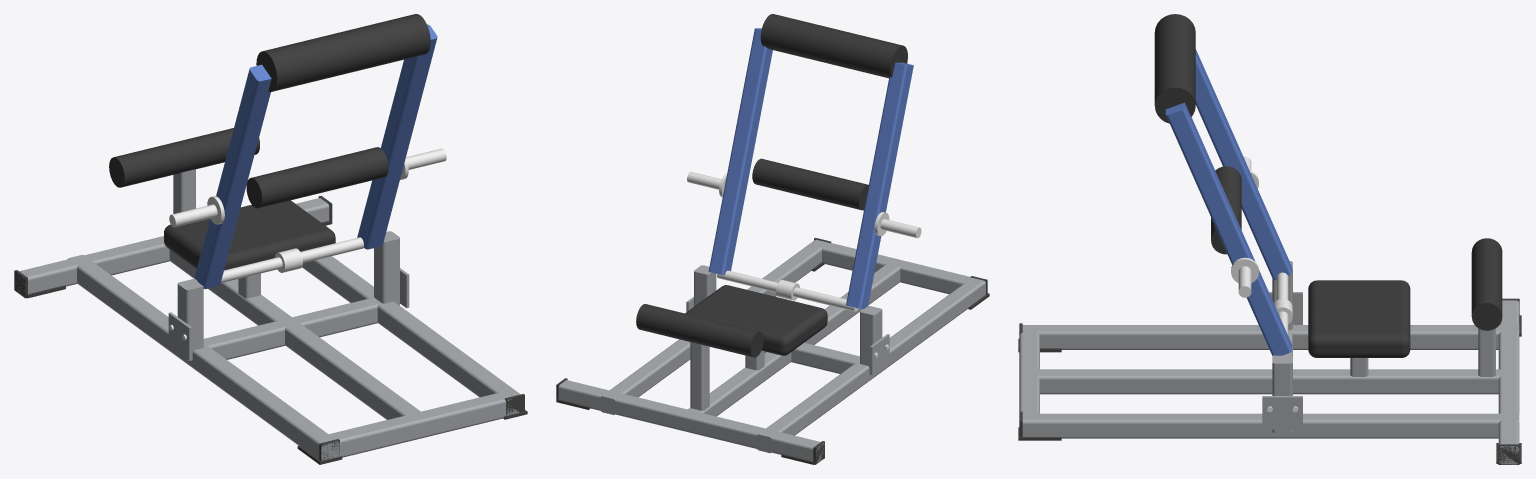
The picture shows the model from 3 angles, left to right: view 1: azimuth 30°, elevation 25°; view 2: azimuth 150°, elevation 25°; view 3: azimuth 270°, elevation 25°; orthographic projection. The views are drawn at different scales.
Parts seen in each view (by area): view 1: base, lever_bar (×2), lever_support, lever_roller, knee_pad_cushion, chest_roller_roller, ankle_roller, lever_horn (×2), lever_axle, knee_pad, gusset; view 2: base, lever_bar (×2), knee_pad_cushion, lever_roller, ankle_roller, chest_roller_roller, lever_support, knee_pad, lever_axle, lever_horn (×2), gusset; view 3: base, lever_bar (×2), knee_pad_cushion, lever_roller, ankle_roller, gusset, lever_support, knee_pad, chest_roller_roller, lever_horn.
Part boxes in pixels (x1=…): base: x1=14, y1=198, x2=520, y2=460; lever_bar (×2): x1=195, y1=24, x2=437, y2=289; lever_support: x1=177, y1=231, x2=399, y2=360; lever_roller: x1=256, y1=14, x2=430, y2=91; knee_pad_cushion: x1=164, y1=200, x2=335, y2=270; chest_roller_roller: x1=246, y1=147, x2=388, y2=208; ankle_roller: x1=109, y1=128, x2=259, y2=187; lever_horn (×2): x1=169, y1=148, x2=446, y2=227; lever_axle: x1=221, y1=237, x2=364, y2=282; knee_pad: x1=173, y1=169, x2=260, y2=298; gusset: x1=168, y1=312, x2=191, y2=360; base: x1=558, y1=239, x2=985, y2=463; lever_bar (×2): x1=708, y1=28, x2=913, y2=308; knee_pad_cushion: x1=685, y1=285, x2=827, y2=355; lever_roller: x1=760, y1=14, x2=907, y2=78; ankle_roller: x1=636, y1=304, x2=763, y2=357; chest_roller_roller: x1=752, y1=158, x2=868, y2=210; lever_support: x1=694, y1=265, x2=882, y2=374; knee_pad: x1=690, y1=342, x2=764, y2=410; lever_axle: x1=717, y1=270, x2=858, y2=311; lever_horn (×2): x1=687, y1=171, x2=921, y2=238; gusset: x1=870, y1=334, x2=889, y2=374; base: x1=1019, y1=300, x2=1519, y2=464; lever_bar (×2): x1=1165, y1=49, x2=1291, y2=355; knee_pad_cushion: x1=1308, y1=280, x2=1410, y2=357; lever_roller: x1=1154, y1=14, x2=1195, y2=123; ankle_roller: x1=1471, y1=238, x2=1502, y2=330; gusset: x1=1262, y1=396, x2=1302, y2=429; lever_support: x1=1272, y1=261, x2=1292, y2=432; knee_pad: x1=1350, y1=328, x2=1495, y2=376; chest_roller_roller: x1=1211, y1=166, x2=1241, y2=254; lever_horn: x1=1231, y1=257, x2=1258, y2=297.
Size of the model in its own units: 1.36 by 1.47 by 1.97.
